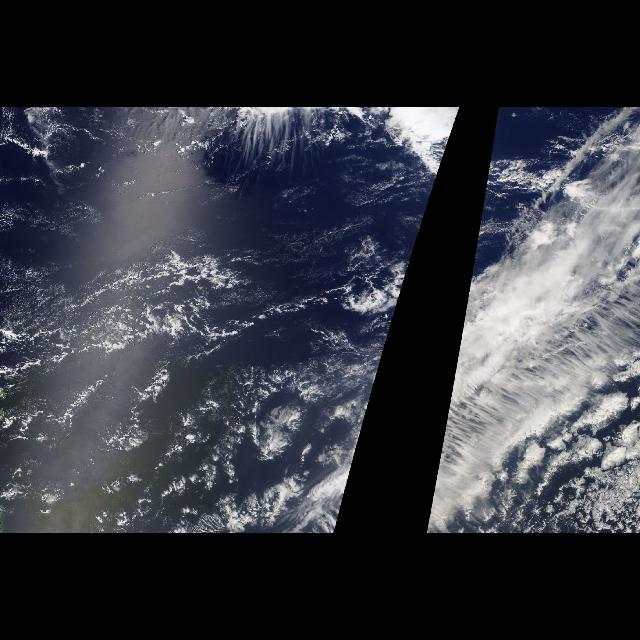Sugar: (277, 162, 409, 278), (1, 198, 108, 328)
